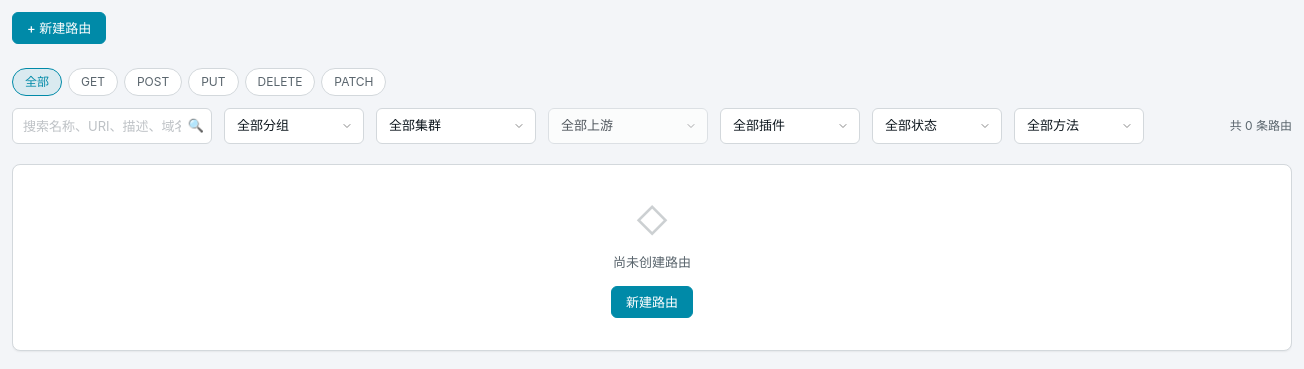
Test case: RouteList.vue 空态双形态与清空筛选（batch1 7.2） › 清空筛选：重置全部筛选（含分组下拉回「全部分组」，C8）并重查
The image size is (1304, 369).
Select "线上" in the 1st dropdown: (294, 126) [224,108,364,144]
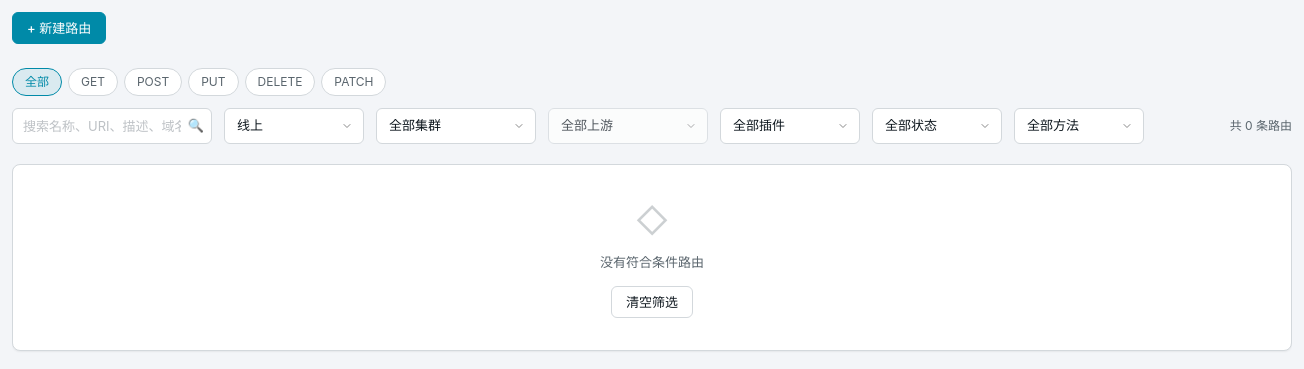
Select "已发布" in the 5th dropdown: (937, 126) [872,108,1002,144]
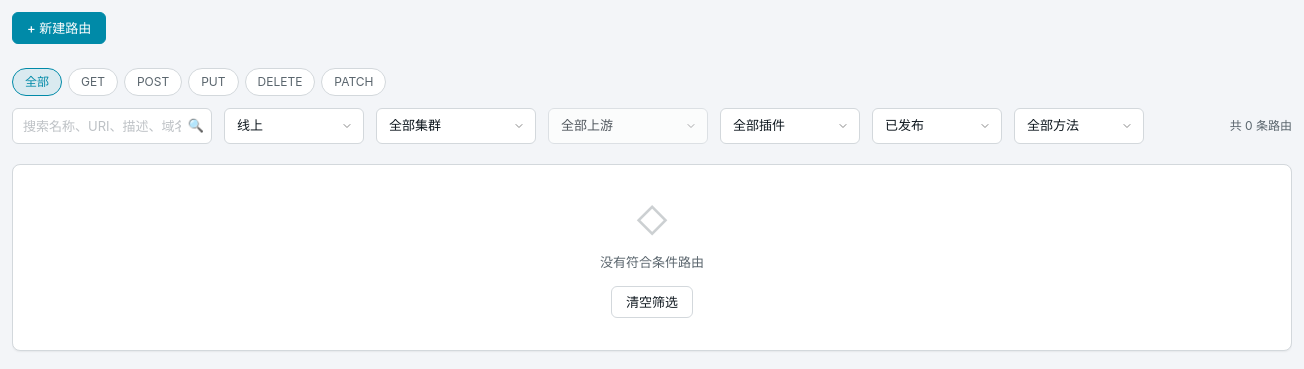
Click the text with class "filter-chip" showing "GET": (93, 82) [68,68,118,96]
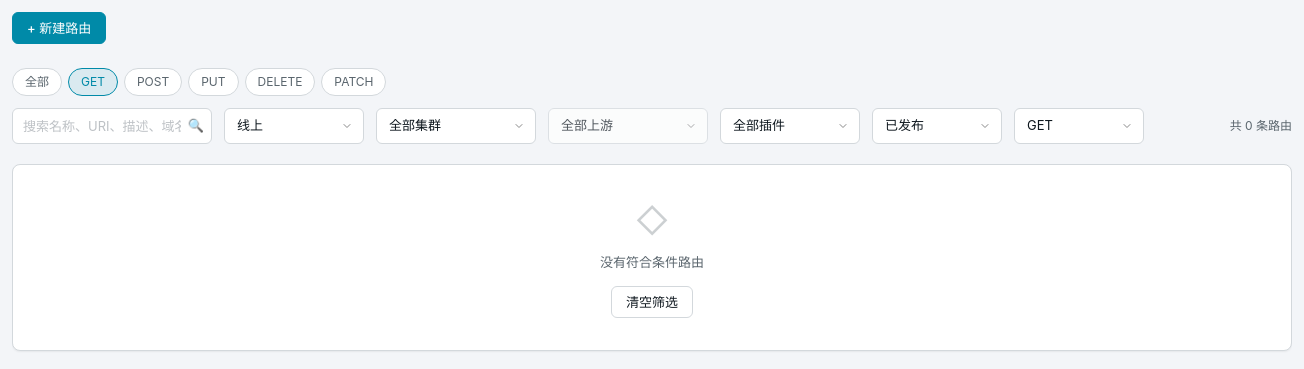
Expected: the text with class "filter-chip" reads "GET", [81,74,105,89]
Click the button "清空筛选": (652, 302) [611,286,693,318]
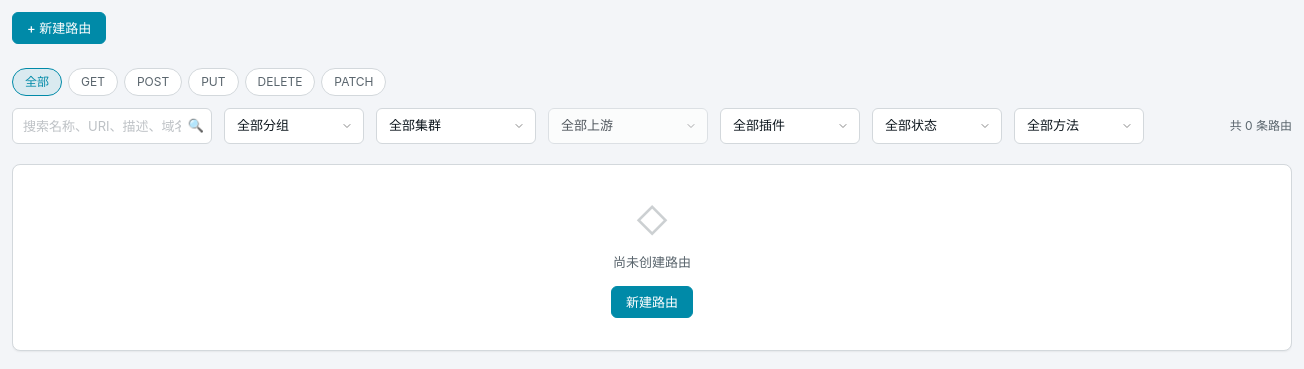
Now the text "尚未创建路由" is shown, box [613,253,691,273]
